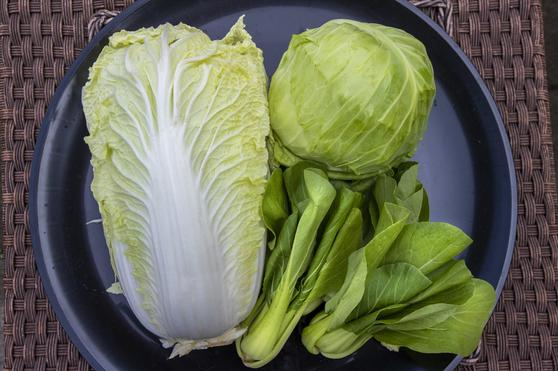cabbage: (275, 18, 435, 179)
